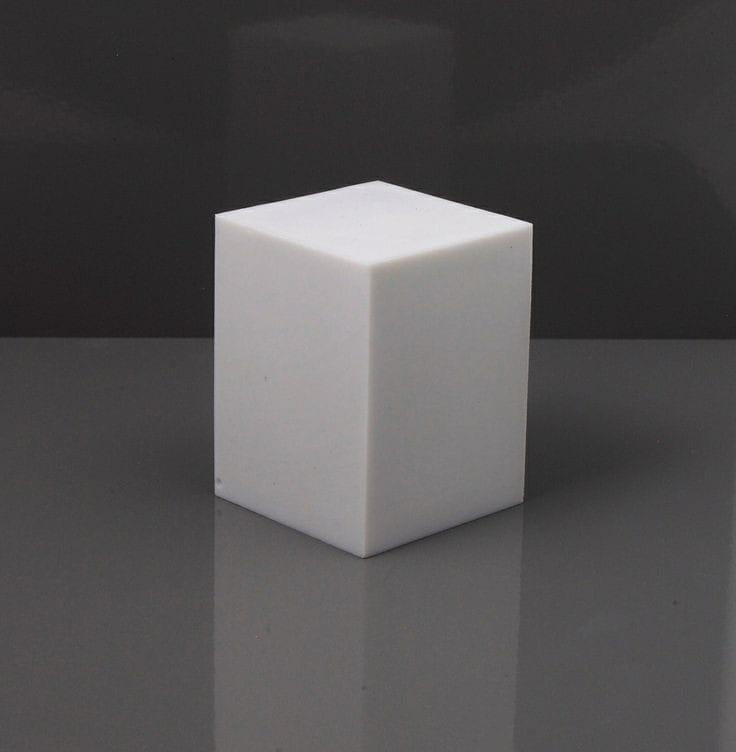cubos: (196, 166, 574, 568)
